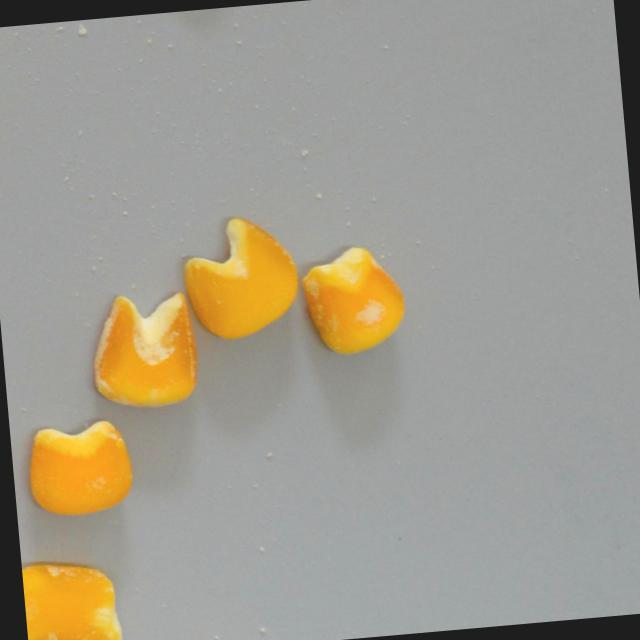dañado: (176, 210, 305, 347), (82, 284, 206, 414), (294, 242, 412, 362), (20, 554, 128, 640)
pelicula: (23, 417, 138, 521)
